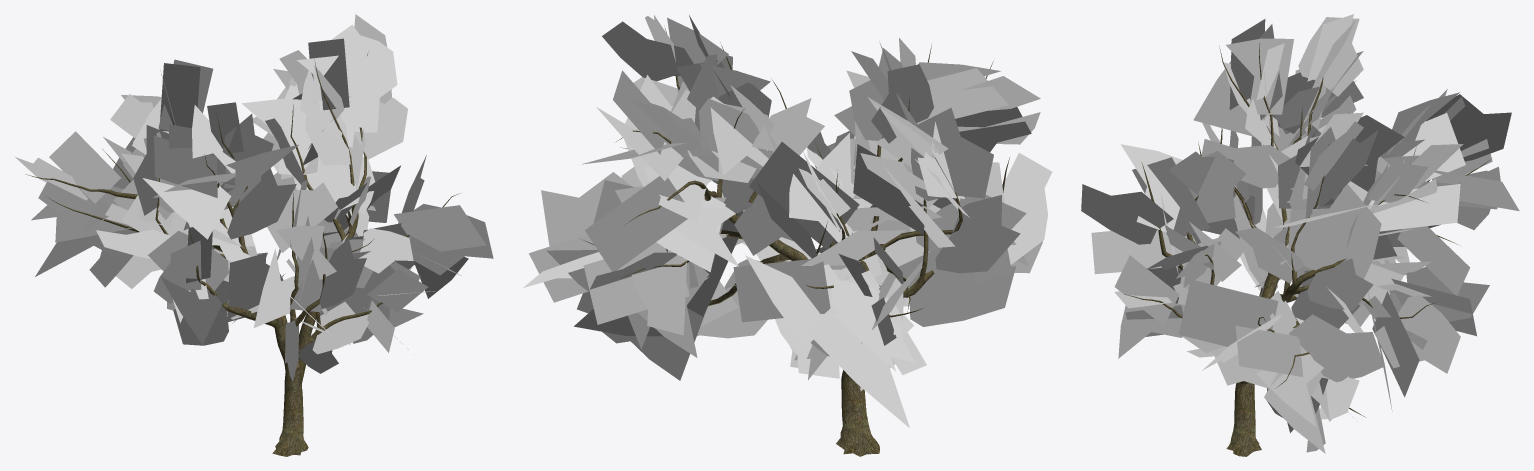
The model's file is Tree_4984.fbx.
3 renders of one model, left to right at view 1: azimuth 30°, elevation 25°; view 2: azimuth 150°, elevation 25°; view 3: azimuth 270°, elevation 25°, orthographic. The views are drawn at different scales.
Parts seen in each view (by area): view 1: Tree_4984_Viaz_AT, Tree_4984_VIAZ_bARK; view 2: Tree_4984_Viaz_AT, Tree_4984_VIAZ_bARK; view 3: Tree_4984_Viaz_AT, Tree_4984_VIAZ_bARK.
Boxes of the visible parts, x1,y1,x2,y2 form: Tree_4984_Viaz_AT: (15, 14, 493, 381); Tree_4984_VIAZ_bARK: (25, 54, 460, 456); Tree_4984_Viaz_AT: (523, 15, 1052, 427); Tree_4984_VIAZ_bARK: (582, 28, 1009, 456); Tree_4984_Viaz_AT: (1081, 14, 1519, 453); Tree_4984_VIAZ_bARK: (1124, 43, 1491, 456).
Bounding box in the file's own units: 93.53 × 91.78 × 92.25.
